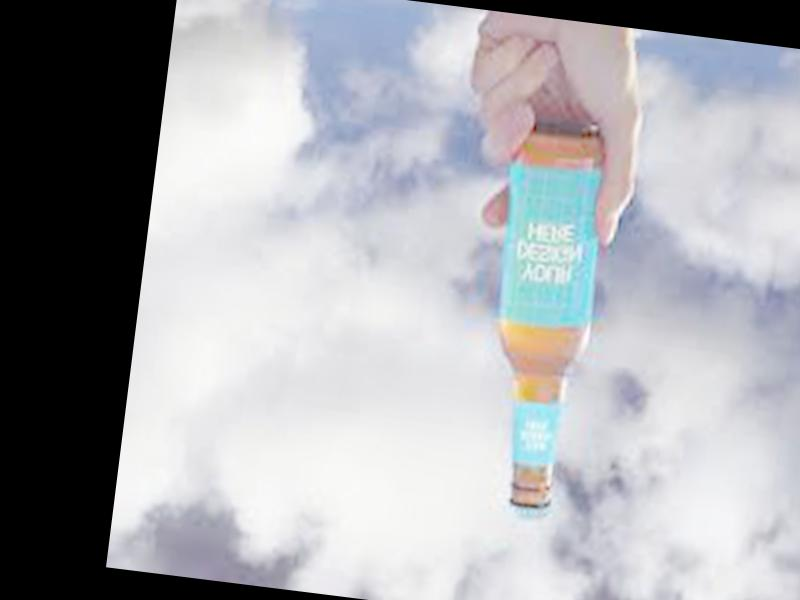Beer: (477, 123, 614, 521)
